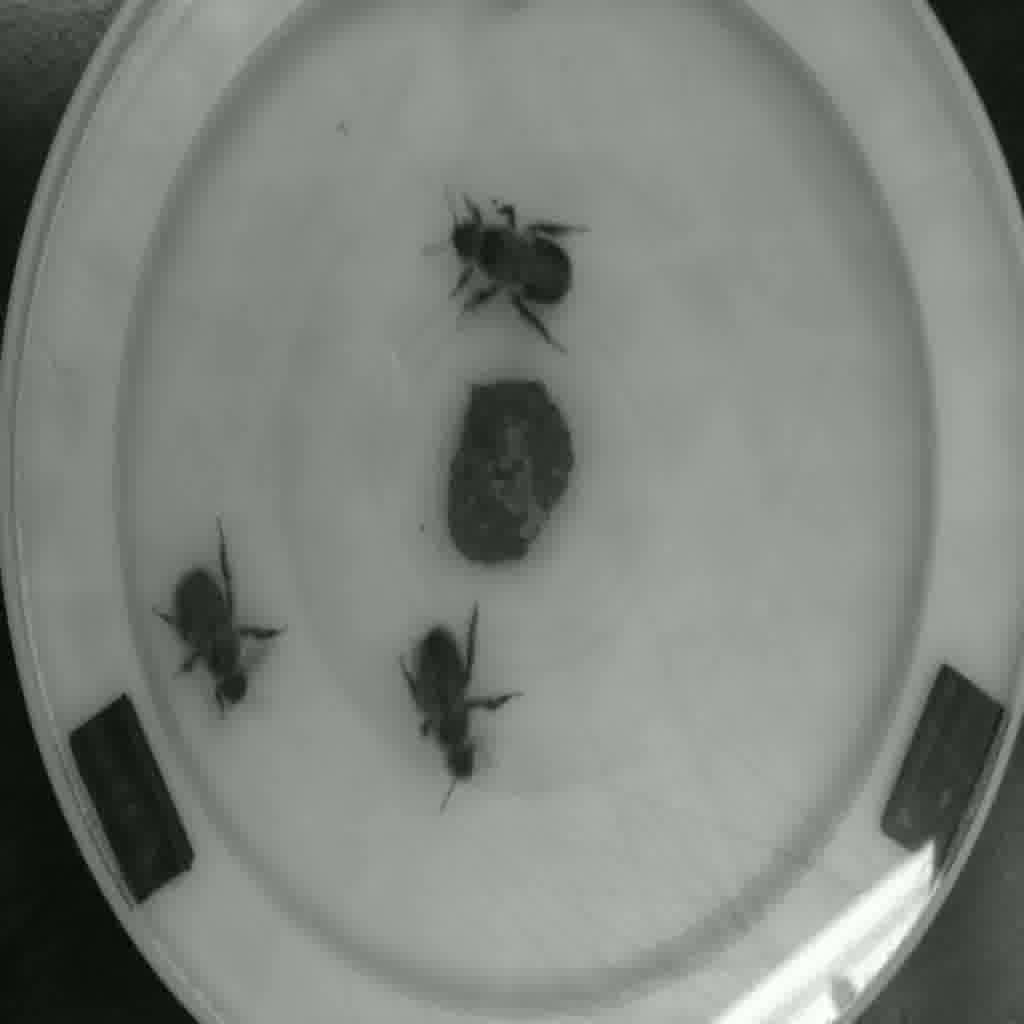bee: (432, 196, 587, 334), (150, 559, 281, 708), (395, 617, 511, 785)
